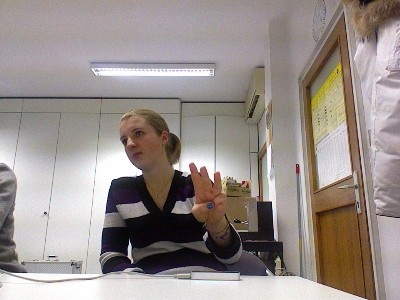三分: (187, 161, 227, 225)
